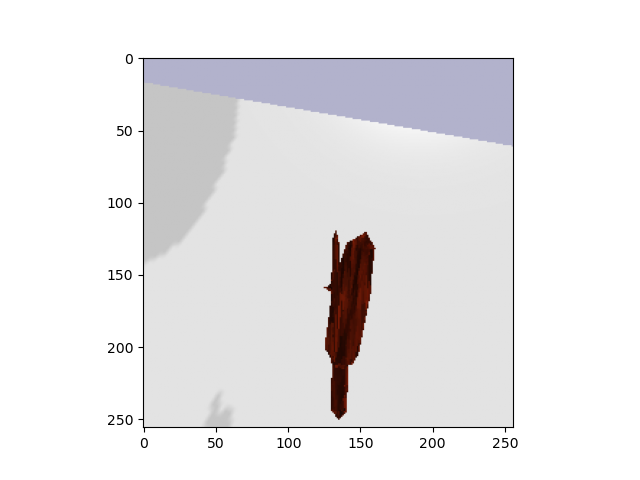v249b387_107: (314, 224, 384, 422)
